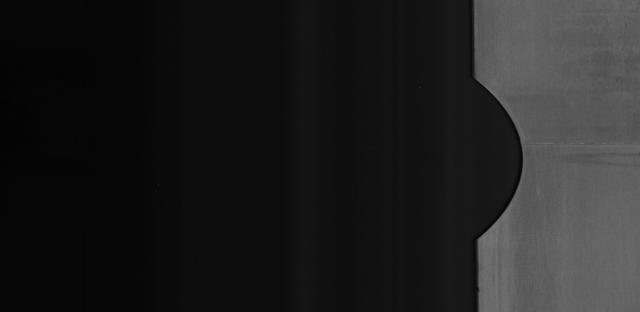crescent_gap: (429, 65, 539, 245)
welding_line: (505, 130, 638, 161)
